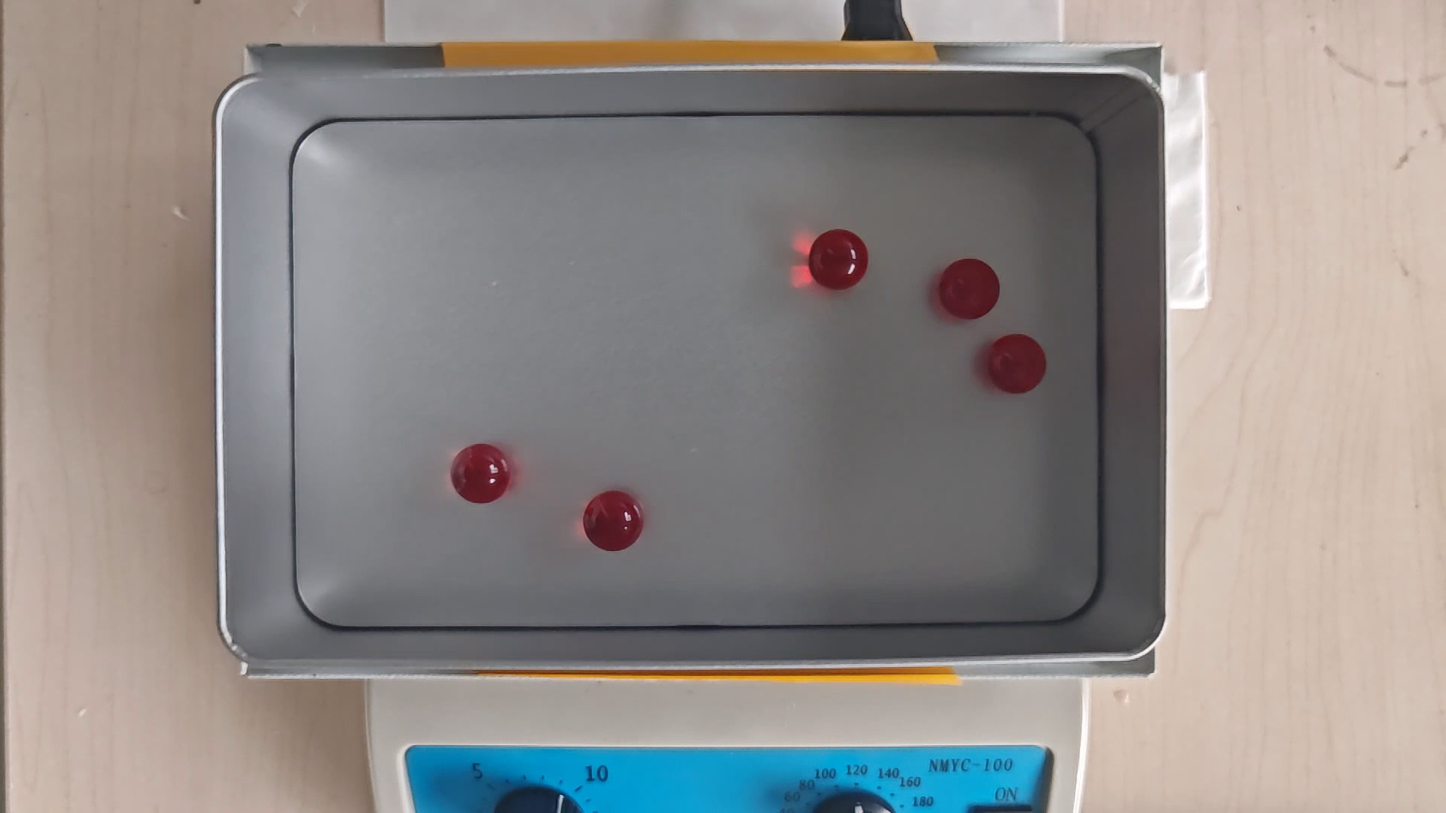ball: (937, 258, 999, 320), (986, 333, 1048, 394), (585, 488, 645, 551), (450, 444, 511, 505), (807, 229, 868, 290)
container: (291, 117, 1103, 630)
